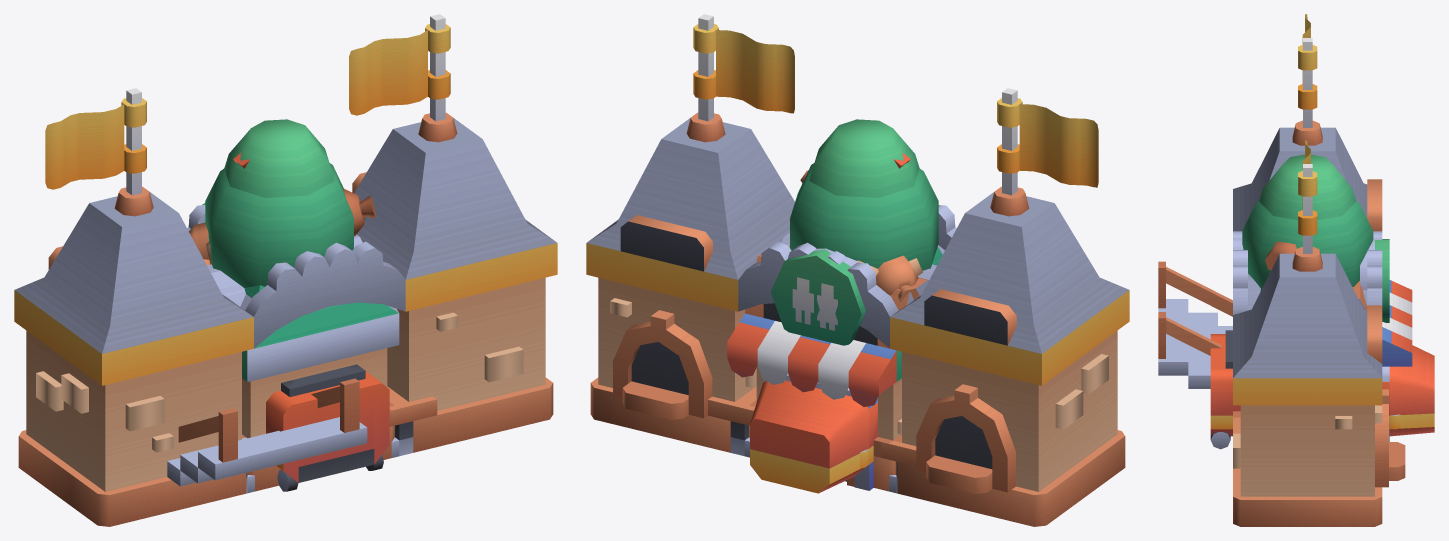
The model's file is coaster.glb.
The picture shows the model from 3 angles, left to right: view 1: azimuth 30°, elevation 25°; view 2: azimuth 150°, elevation 25°; view 3: azimuth 270°, elevation 25°; orthographic projection. The views are drawn at different scales.
Parts seen in each view (by area): view 1: park-entrance, tree-large, path-steps, stall-drinks, coaster-train, coaster-train-front, ride-entrance, ride-exit, stall-food, station; view 2: park-entrance, tree-large, coaster-train-front, stall-drinks, stall-toilets, stall-food, station, ride-entrance, stall-information; view 3: park-entrance, tree-large, path-steps, coaster-train-front, coaster-train, stall-drinks, stall-food, stall-toilets.
Boxes of the visible parts, x1=… form: park-entrance: x1=14, y1=14, x2=557, y2=526; tree-large: x1=205, y1=119, x2=353, y2=287; path-steps: x1=167, y1=378, x2=367, y2=486; stall-drinks: x1=233, y1=152, x2=399, y2=491; coaster-train: x1=266, y1=364, x2=389, y2=485; coaster-train-front: x1=271, y1=371, x2=389, y2=491; ride-entrance: x1=242, y1=285, x2=394, y2=474; ride-exit: x1=254, y1=302, x2=398, y2=348; stall-food: x1=189, y1=189, x2=398, y2=312; station: x1=246, y1=386, x2=437, y2=493; park-entrance: x1=586, y1=14, x2=1129, y2=526; tree-large: x1=790, y1=119, x2=938, y2=270; coaster-train-front: x1=750, y1=380, x2=869, y2=493; stall-drinks: x1=727, y1=152, x2=910, y2=406; stall-toilets: x1=745, y1=246, x2=929, y2=348; stall-food: x1=739, y1=170, x2=936, y2=490; station: x1=708, y1=386, x2=916, y2=493; ride-entrance: x1=749, y1=247, x2=942, y2=475; stall-information: x1=869, y1=352, x2=901, y2=491; park-entrance: x1=1233, y1=14, x2=1405, y2=526; tree-large: x1=1242, y1=154, x2=1373, y2=288; path-steps: x1=1158, y1=261, x2=1232, y2=388; coaster-train-front: x1=1210, y1=334, x2=1434, y2=449; coaster-train: x1=1210, y1=330, x2=1400, y2=439; stall-drinks: x1=1382, y1=281, x2=1412, y2=375; stall-food: x1=1265, y1=241, x2=1412, y2=441; stall-toilets: x1=1352, y1=239, x2=1389, y2=377.
Bounding box in the file's own units: 3.09 × 2.44 × 1.85.
1 material, 1 textured.
